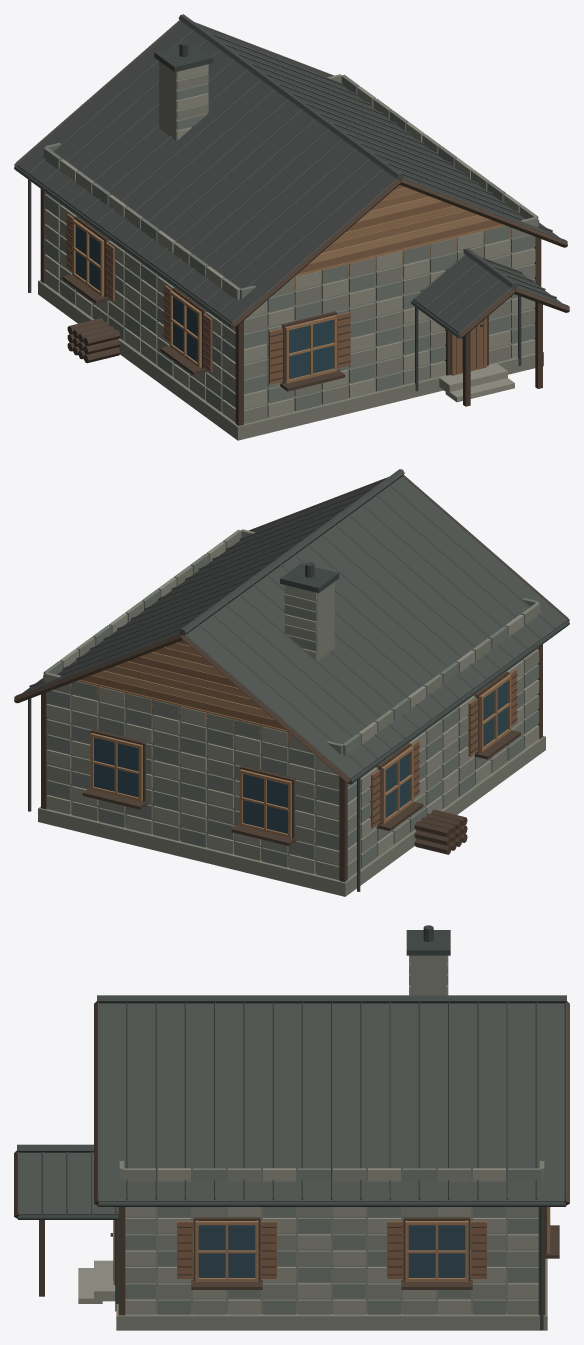
Rendered from 03_casa_piedra.glb.
The picture shows the model from 3 angles, top to bottom: view 1: azimuth 30°, elevation 25°; view 2: azimuth 150°, elevation 25°; view 3: azimuth 270°, elevation 25°; orthographic projection. The views are drawn at different scales.
Visible parts, largest first — view 1: 03_casa_piedra; view 2: 03_casa_piedra; view 3: 03_casa_piedra.
Part boxes in pixels (bbox=[...]): 03_casa_piedra: bbox=[14, 14, 569, 440]; 03_casa_piedra: bbox=[14, 469, 569, 896]; 03_casa_piedra: bbox=[14, 925, 569, 1330].
Bounding box in the file's own units: 8.89 × 6.4 × 11.12.
